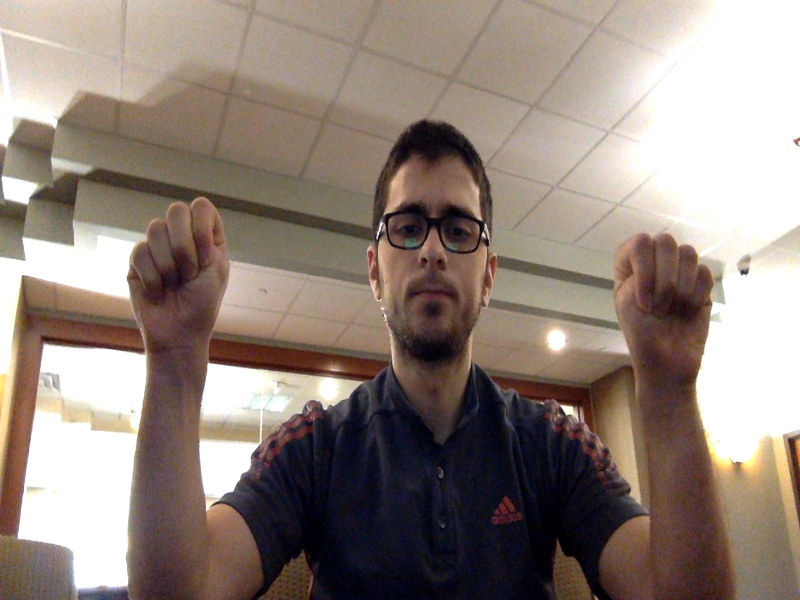0-hand: (127, 197, 226, 356), (615, 233, 713, 386)
